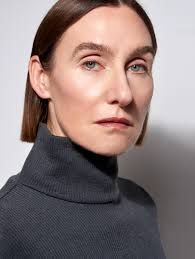no-mask: (29, 6, 168, 160)
